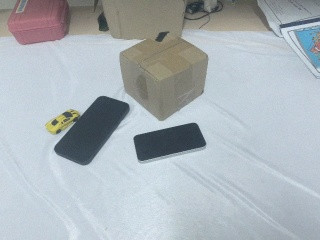book: (249, 1, 320, 86)
box: (120, 34, 208, 121), (95, 1, 187, 41)
phone: (51, 94, 131, 166), (134, 122, 207, 163)
toy_car: (44, 109, 80, 135)
